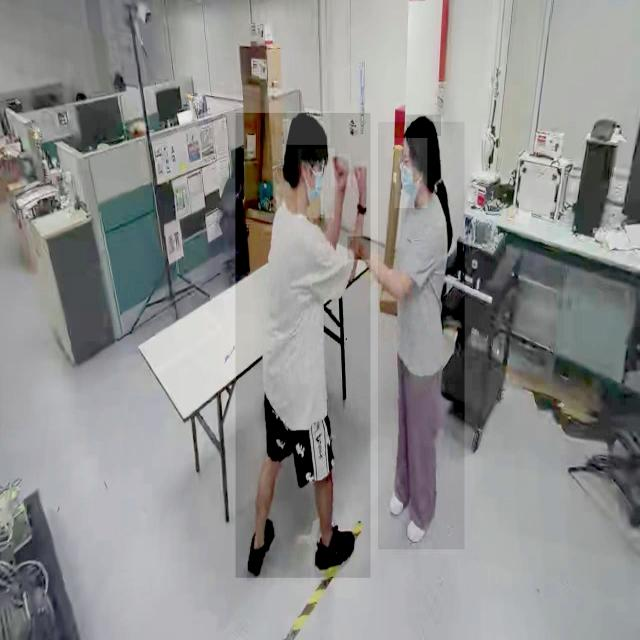face_mask: (298, 148, 334, 218), (394, 138, 428, 208)
hand_noglove: (330, 154, 350, 186), (347, 237, 371, 260), (354, 161, 368, 187)
head_nohelmet: (286, 111, 331, 146), (405, 115, 441, 137)
person: (235, 113, 371, 579), (378, 122, 464, 550)
shoes: (244, 512, 280, 580), (312, 523, 359, 569), (405, 499, 435, 544), (388, 471, 412, 519)
